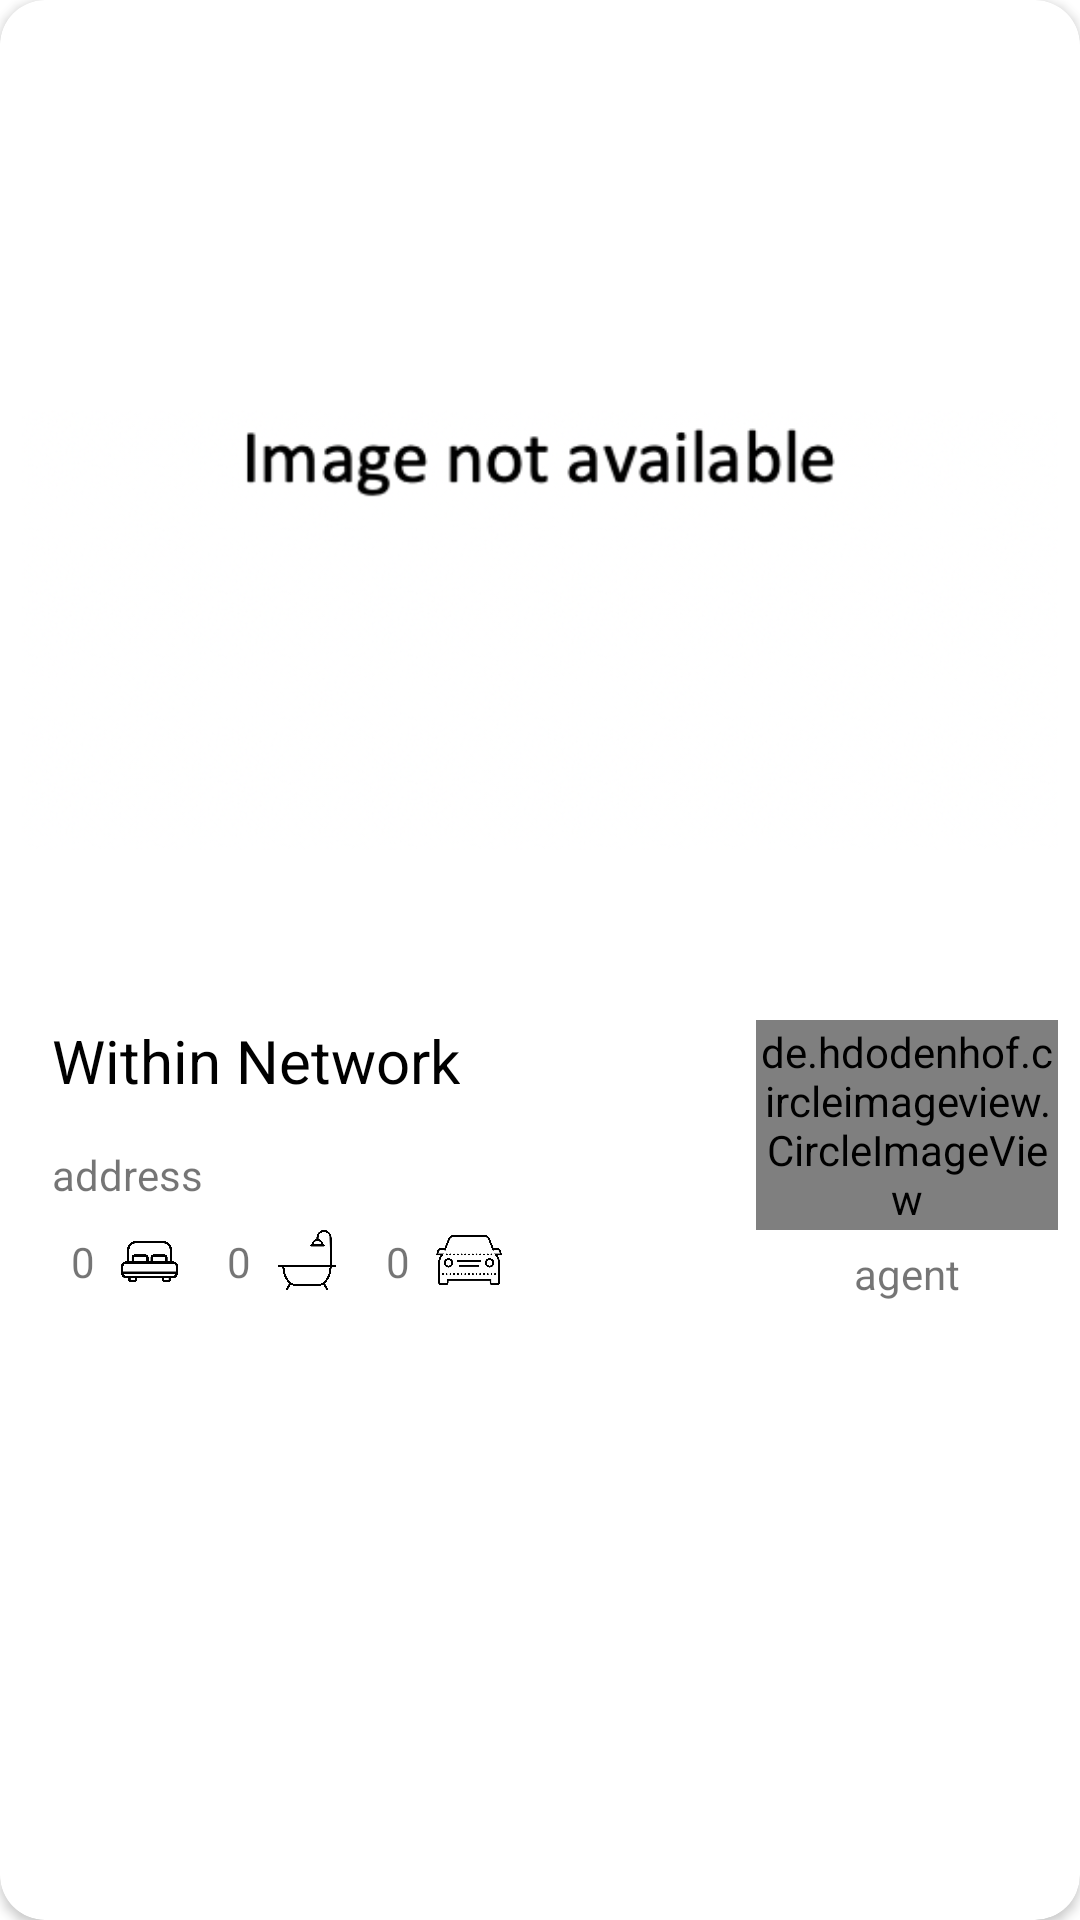

Where to tap for icons on this 1080 x 1920 app screen, as [x,y]:
bath: [307,1260]
bed: [149,1261]
car: [469,1260]
